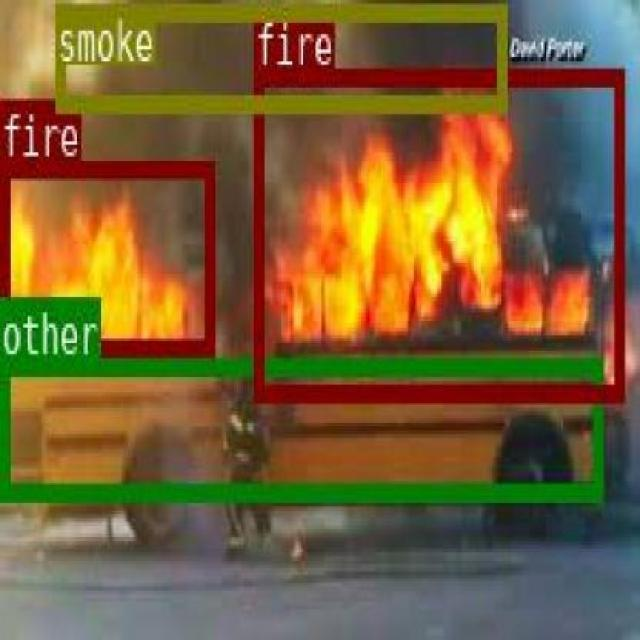Fire: (252, 66, 622, 397), (0, 156, 211, 352)
Smoke: (54, 1, 506, 110)
